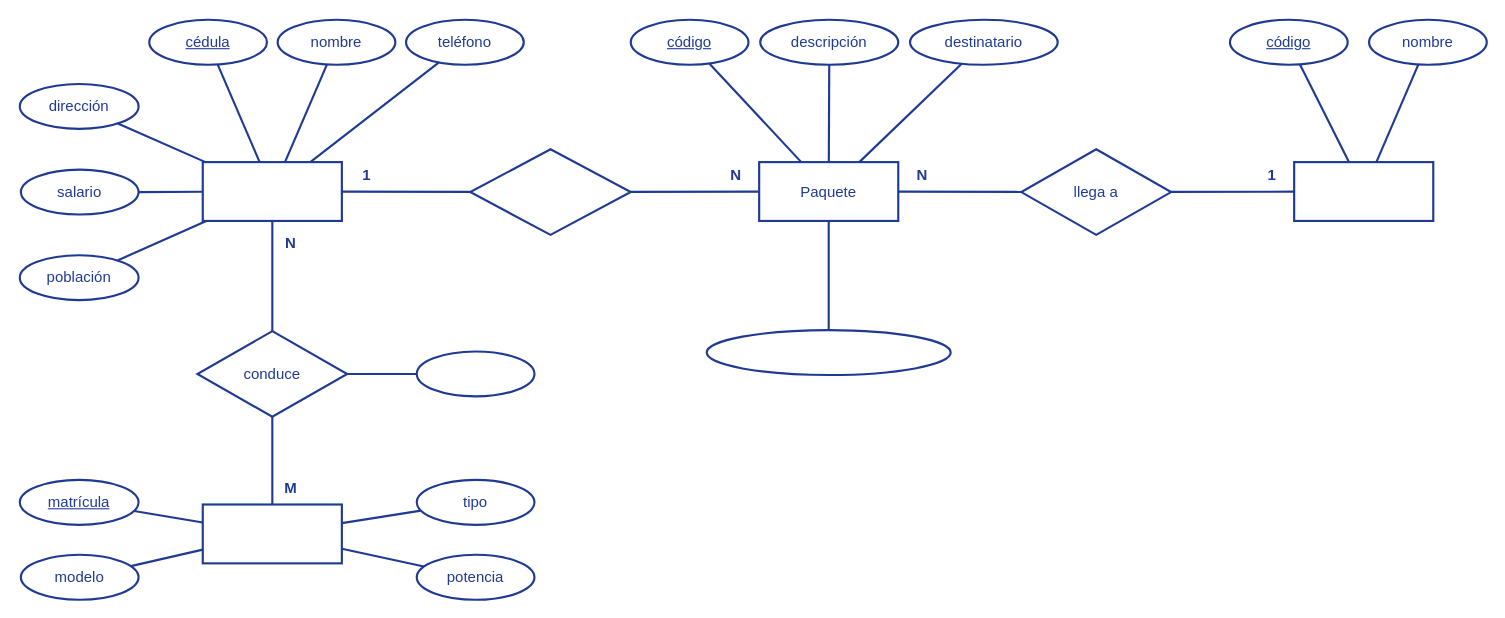
This 1505x618 diagram has some shape labels left out. Each missing label, with the centre of its shape:
Camionero: point 271,190
Camión: point 271,533
dirección_destinatario: point 828,352
distribuye: point 550,191
fecha: point 475,373
Provincia: point 1363,190
